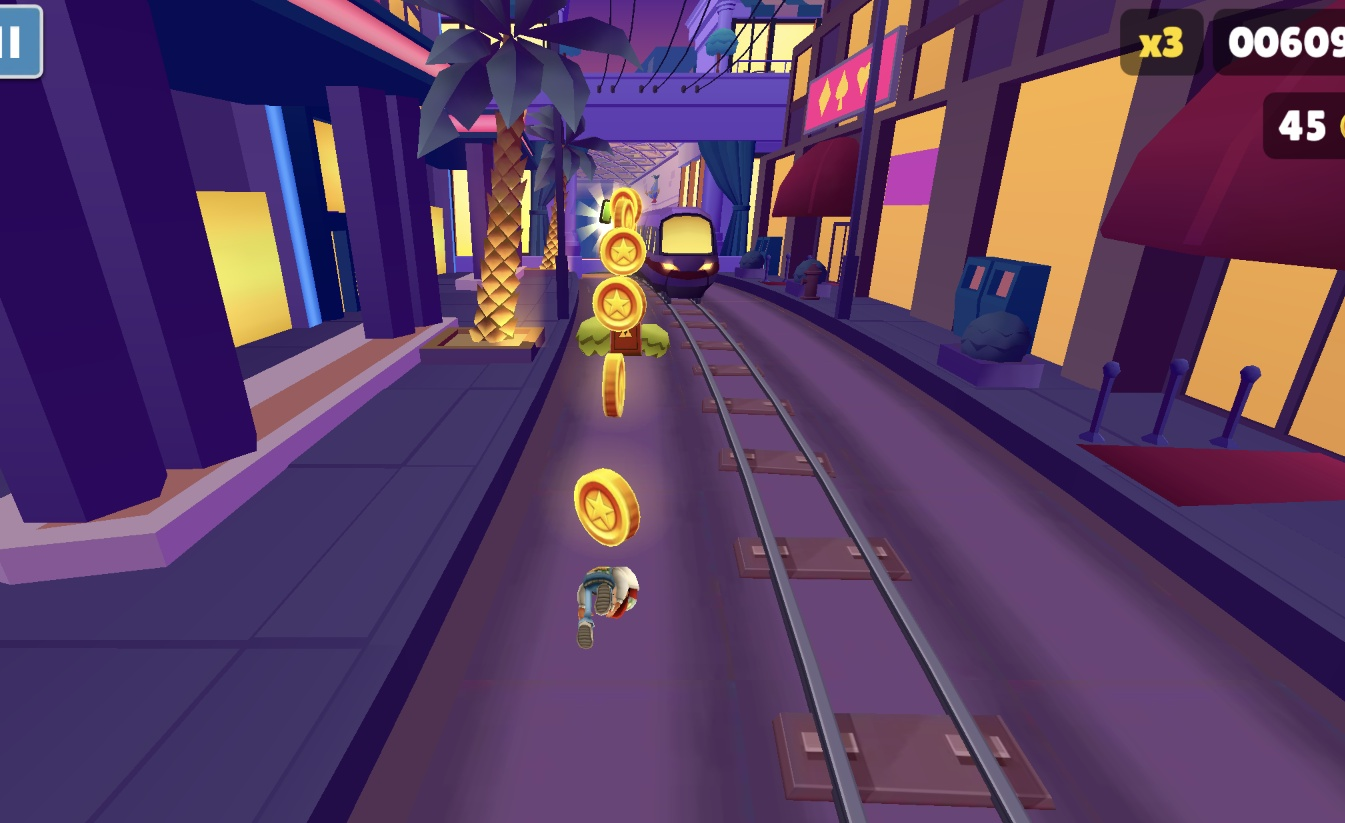bush: (581, 316, 607, 357), (638, 323, 665, 358)
small_obstacle: (607, 317, 638, 355)
train: (640, 206, 720, 299)
